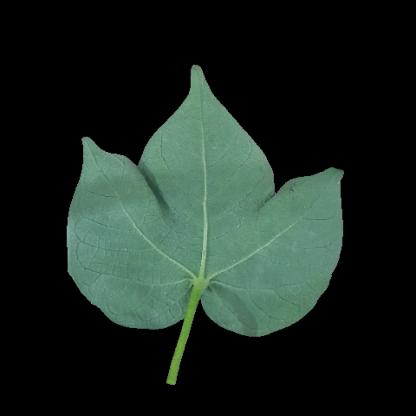healthy: (152, 139, 255, 305), (86, 185, 149, 303), (263, 201, 336, 283)
